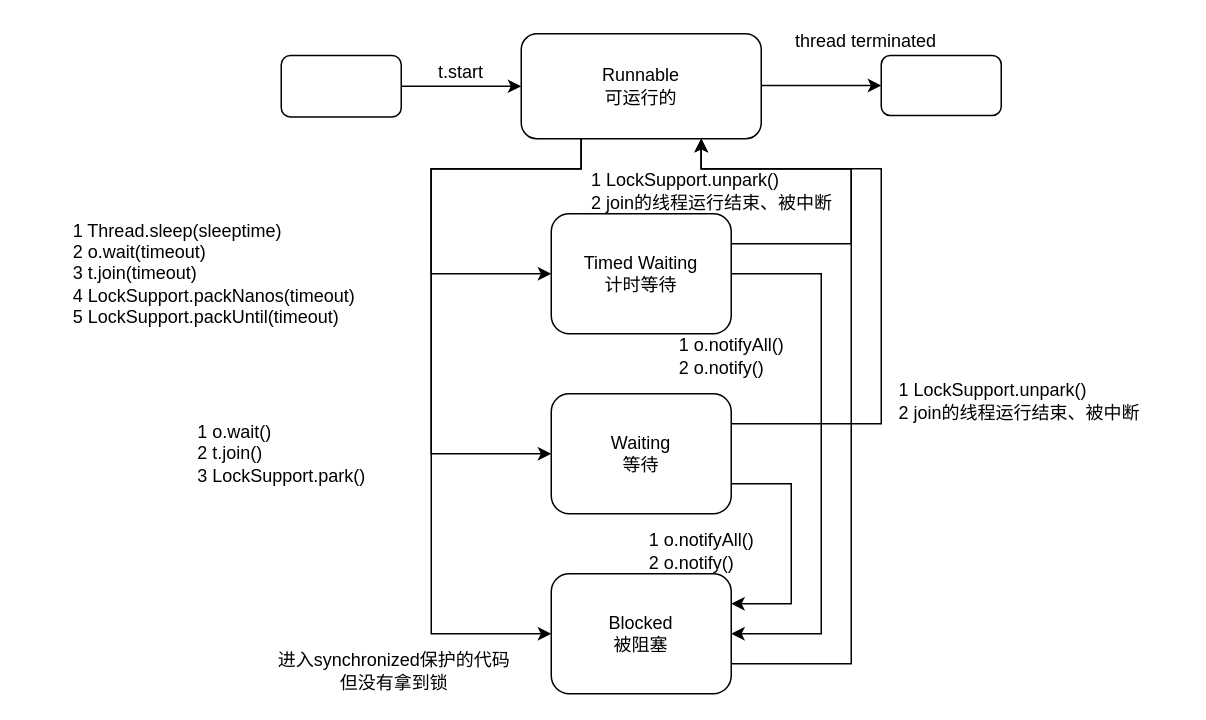
The diagram is 1206 pixels wide and 720 high, and some of its shapes have lost their labels. The centre of each missing label's shape, as x and y in pixels:
"New 新创建" goes at pixel 340 85.
"Terminated 已终止" goes at pixel 940 85.
